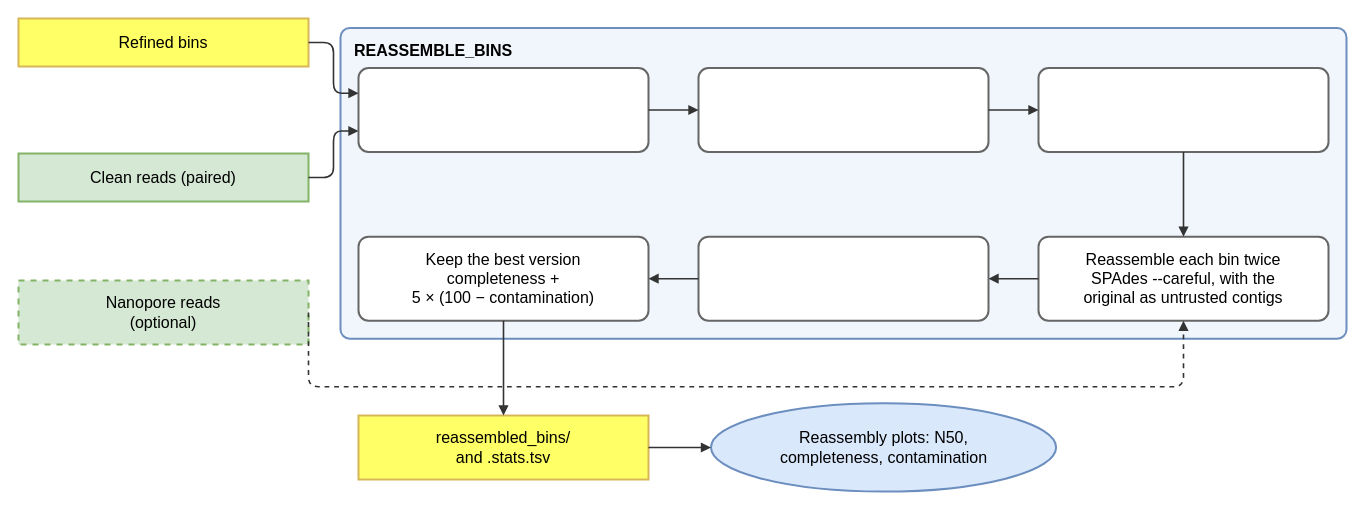
This 1364x510 diagram has some shape labels left out. The centre of each missing label's shape, as x and y in pixels:
Recruit reads to bins bwa mem against the binned contigs; both mates in one bin: the point at 503,109
Score each version original, strict, permissive CheckM: the point at 843,278
Split each bin's reads strict: < 2 mismatches permissive: < 5: the point at 843,109
Thin deep bins to --max-coverage (50× by default, seeded): the point at 1183,109
